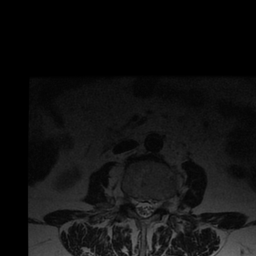CCS_normal: (141, 193, 148, 223)
LFS_normal: (155, 192, 161, 212)
LLS_normal: (148, 194, 154, 219)
RFS_stenosis: (129, 190, 135, 210)
RLS_normal: (135, 194, 141, 218)
